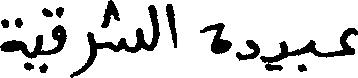X: (102, 0, 141, 57), (45, 2, 64, 77), (24, 4, 43, 77), (72, 27, 94, 77), (259, 36, 286, 75), (202, 18, 228, 58), (0, 13, 22, 57), (297, 35, 315, 76), (339, 23, 357, 60), (237, 35, 257, 65), (150, 0, 158, 55), (167, 0, 173, 47)
